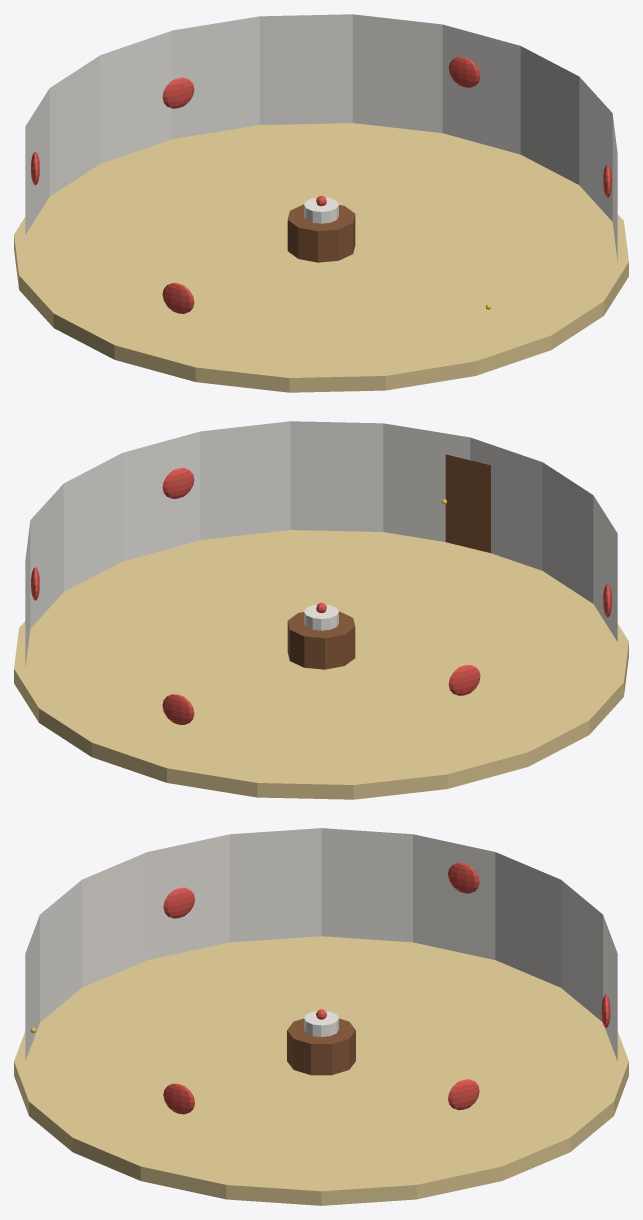
Rendered from room_house_b.glb.
3 renders of one model, top to bottom at view 1: azimuth 30°, elevation 25°; view 2: azimuth 150°, elevation 25°; view 3: azimuth 270°, elevation 25°, orthographic.
Visible parts, largest first — view 1: RoomB; view 2: RoomB; view 3: RoomB.
Boxes of the visible parts, bbox=[...] form: RoomB: bbox=[14, 14, 628, 392]; RoomB: bbox=[14, 421, 628, 799]; RoomB: bbox=[14, 828, 628, 1205].
Size of the model in its own units: 13.4 by 2.95 by 13.4.
